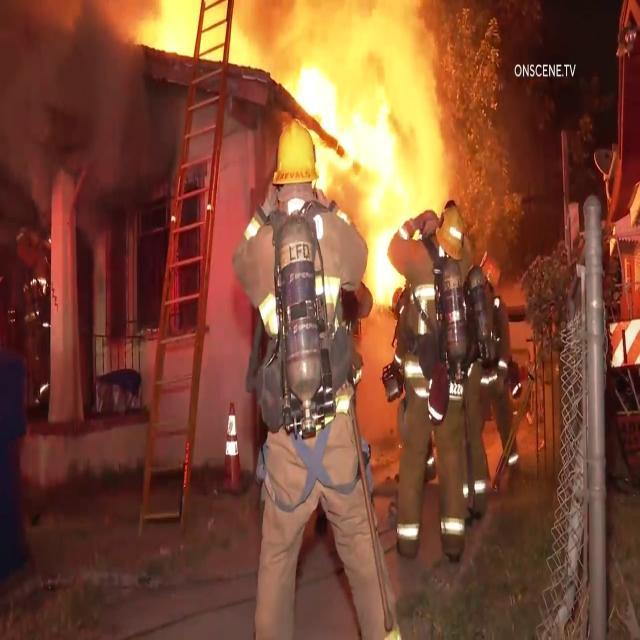Fire: (296, 77, 406, 280)
Smoke: (0, 0, 147, 196)
